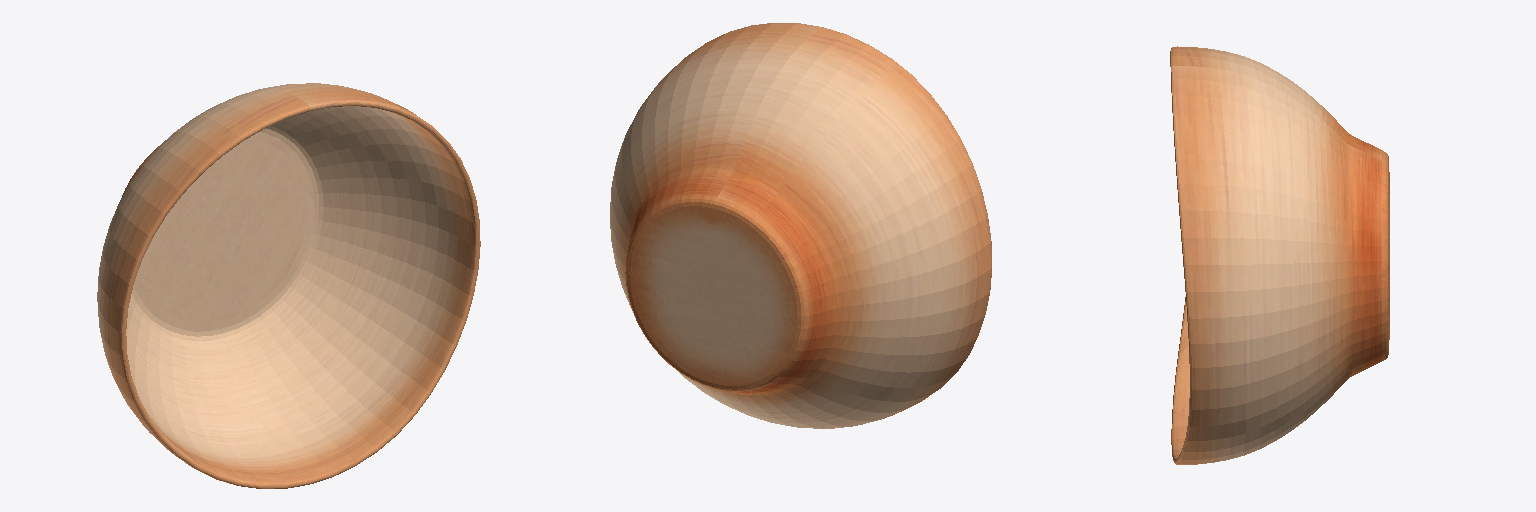
The picture shows the model from 3 angles: view 1: azimuth 30°, elevation 25°; view 2: azimuth 150°, elevation 25°; view 3: azimuth 270°, elevation 25°; orthographic projection.
Bounding box in the file's own units: 1.58 × 1.59 × 0.8304.
1 materials, 1 textured.